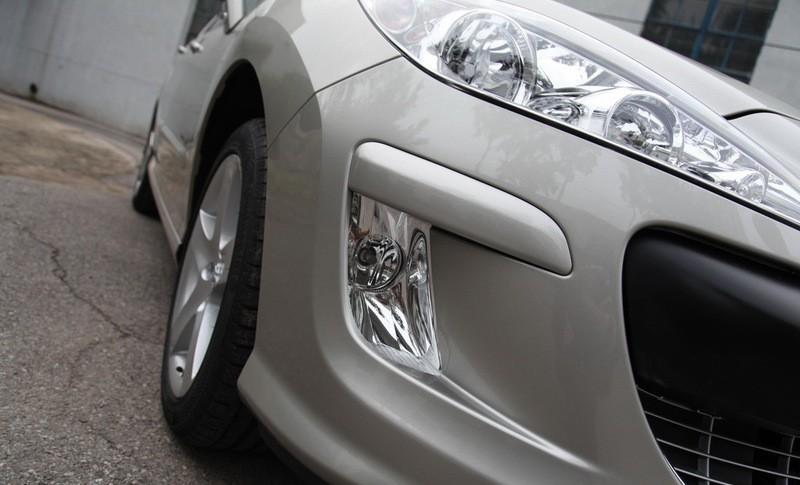Wagon: (132, 3, 800, 485)
